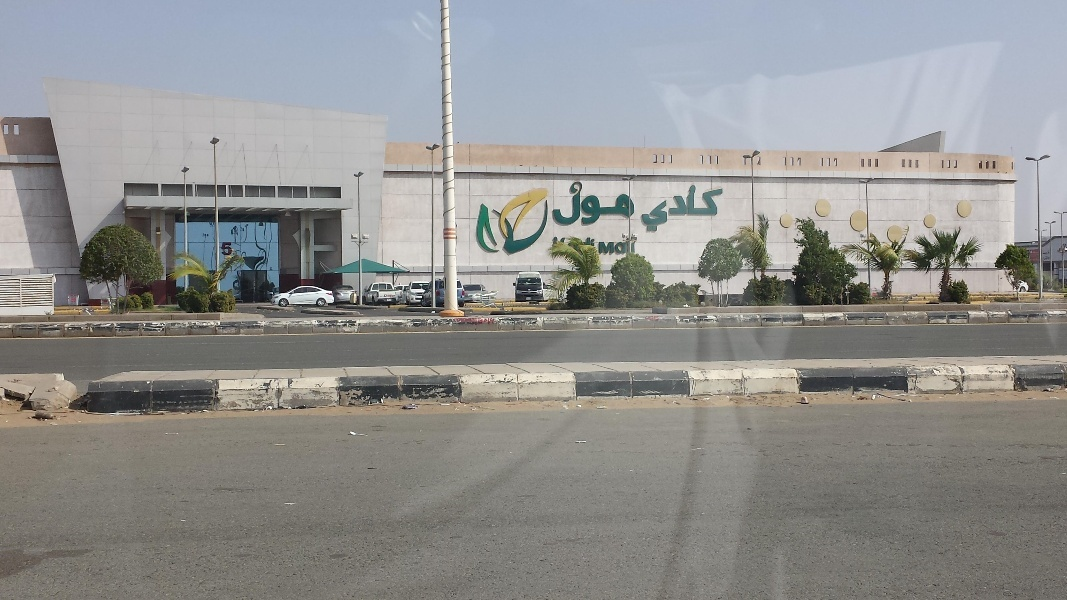text: (641, 184, 656, 234), (657, 184, 672, 234), (673, 184, 688, 234), (689, 184, 704, 234), (705, 184, 720, 234), (561, 180, 576, 226), (577, 180, 592, 226), (593, 180, 608, 226), (609, 180, 624, 226), (625, 180, 635, 226), (554, 180, 560, 226), (721, 184, 725, 234), (609, 242, 624, 255), (625, 242, 637, 255), (225, 242, 234, 256), (599, 242, 608, 255), (465, 318, 480, 324), (481, 318, 496, 324), (1029, 257, 1040, 263), (1043, 251, 1056, 256), (1043, 257, 1056, 262), (639, 184, 640, 234), (456, 318, 464, 324), (221, 242, 224, 256), (385, 295, 395, 298), (1033, 251, 1040, 255)
